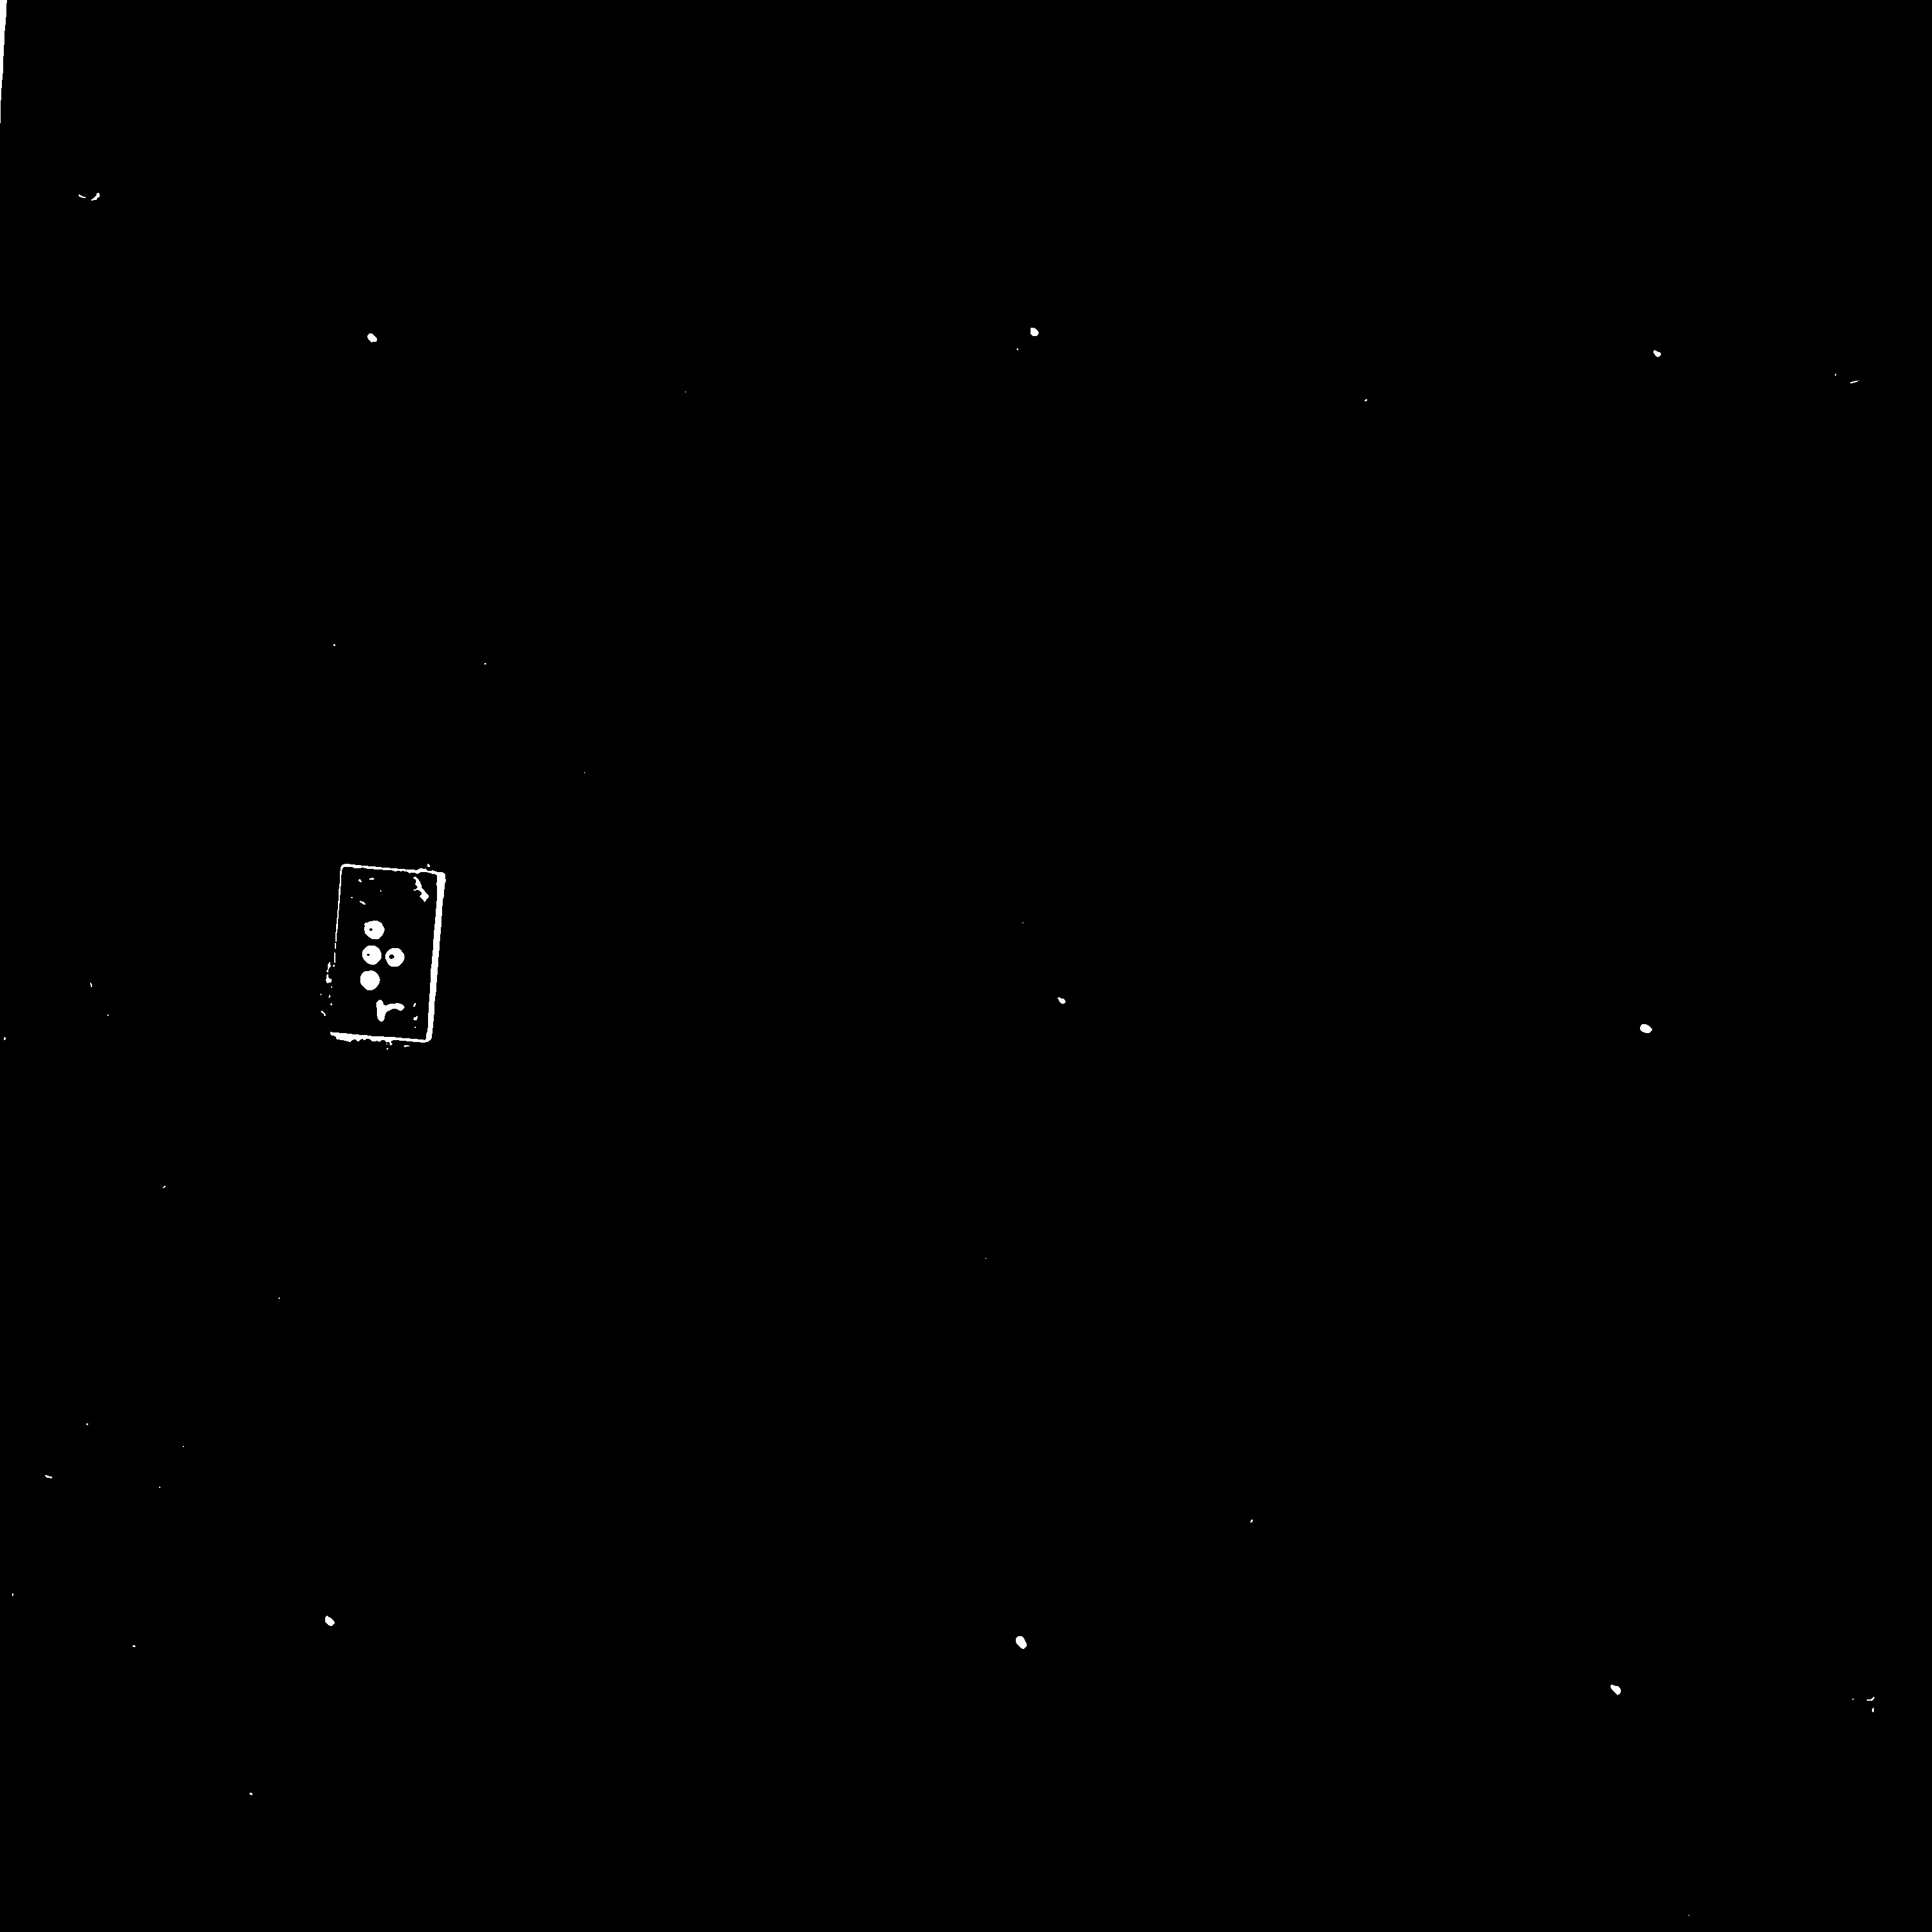r: (351, 903, 410, 993)
